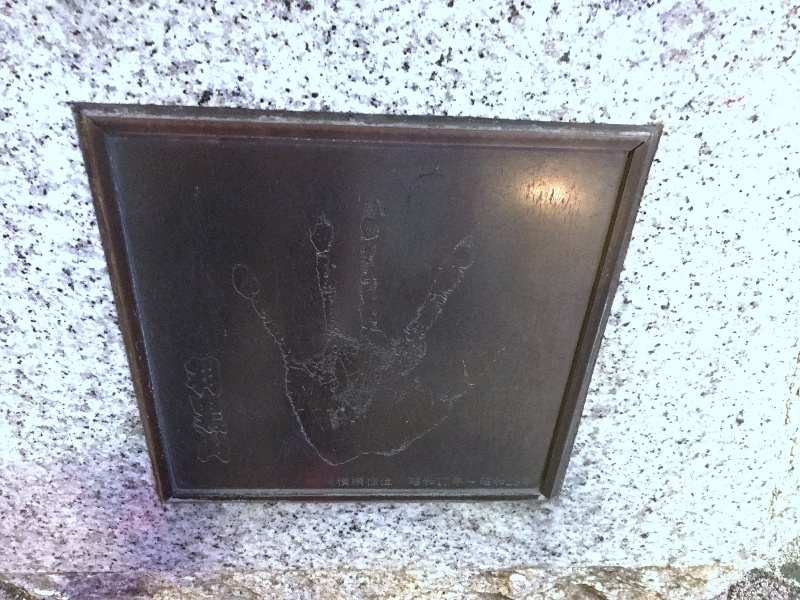text: (193, 357, 208, 468), (209, 357, 224, 468), (183, 357, 192, 468), (225, 357, 233, 468), (417, 475, 432, 489), (433, 475, 448, 489), (449, 475, 464, 489), (465, 475, 480, 489), (481, 475, 496, 489), (497, 475, 512, 489), (513, 475, 528, 489), (337, 476, 352, 488), (353, 476, 368, 488), (369, 476, 384, 488), (407, 475, 416, 489), (385, 476, 394, 488), (529, 475, 534, 489), (335, 476, 336, 488)
